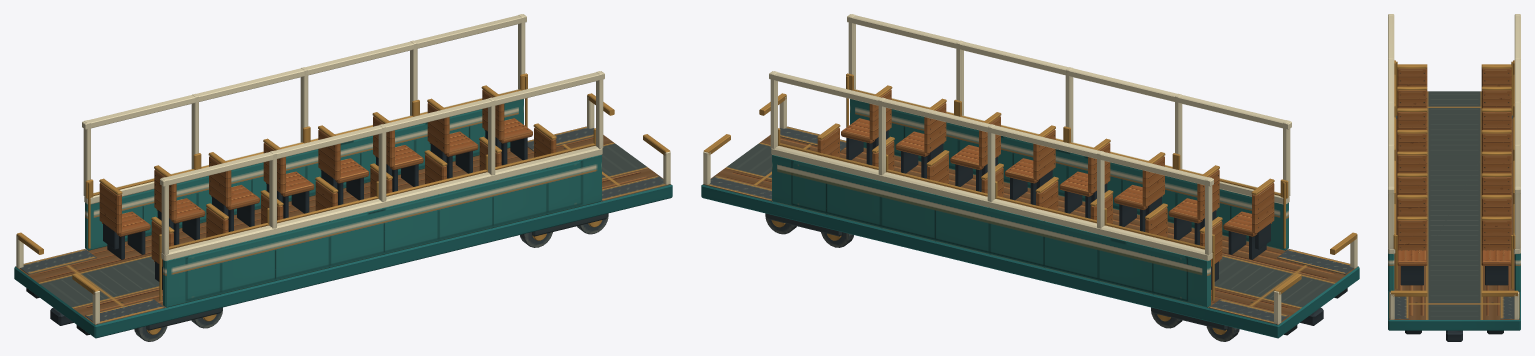
File: SM_Carriage.fbx
3 renders of one model, left to right at view 1: azimuth 30°, elevation 25°; view 2: azimuth 150°, elevation 25°; view 3: azimuth 270°, elevation 25°, orthographic. The views are drawn at different scales.
Parts seen in each view (by area): view 1: SM_Carriage; view 2: SM_Carriage; view 3: SM_Carriage.
Boxes of the visible parts, left/top/right/bottom form: SM_Carriage: left=14, top=14, right=672, bottom=341; SM_Carriage: left=701, top=14, right=1359, bottom=341; SM_Carriage: left=1388, top=14, right=1520, bottom=341.
Size of what is drawn, in the model's own units: 900 by 220 by 251.
Materials: 1 (1 with a texture image).
